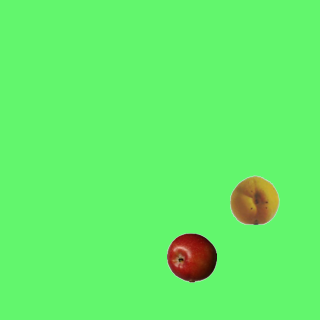Apple Braeburn: (166, 232, 216, 282)
Peach 2: (229, 174, 279, 224)
